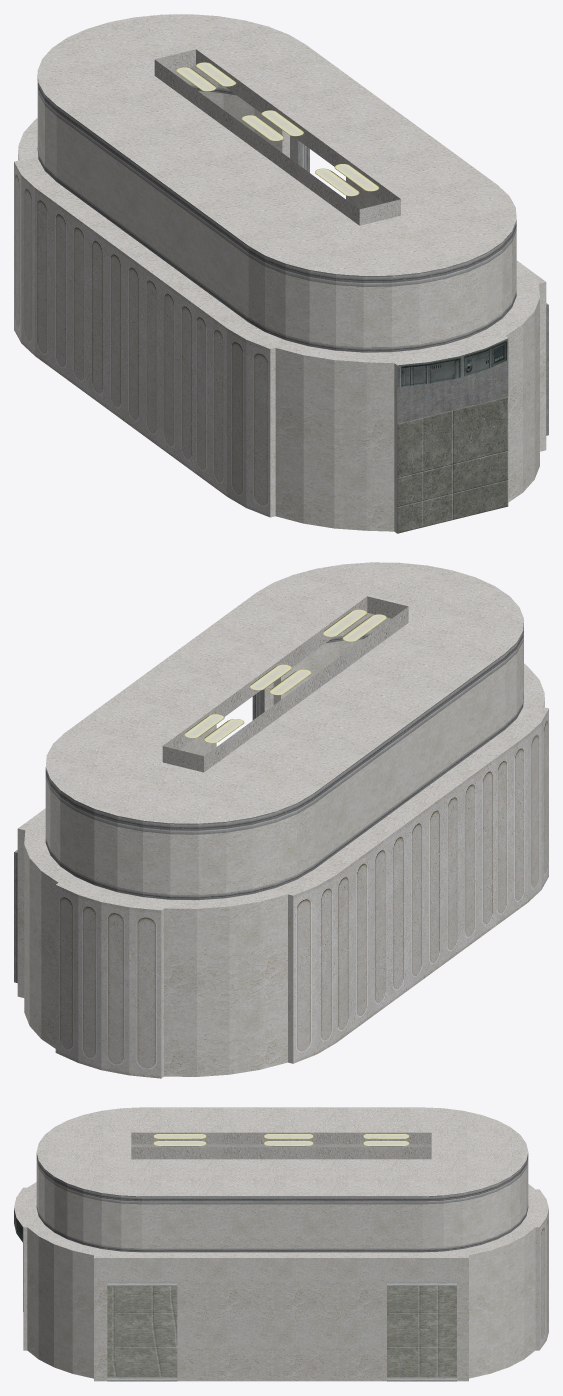
The model's file is ply_corl_house_m_s02_fp1_r2_middleroom_mesh.fbx.
3 views of the same model, one above another, from view 1: azimuth 30°, elevation 25°; view 2: azimuth 150°, elevation 25°; view 3: azimuth 270°, elevation 25° (orthographic). The views are drawn at different scales.
Visible parts, largest first — view 1: mesh_node; view 2: mesh_node; view 3: mesh_node.
Part boxes in pixels (x1=…): mesh_node: x1=14, y1=14, x2=548, y2=533; mesh_node: x1=14, y1=562, x2=548, y2=1078; mesh_node: x1=14, y1=1107, x2=548, y2=1381.
Bounding box in the file's own units: 7.2 × 6.01 × 15.24.
